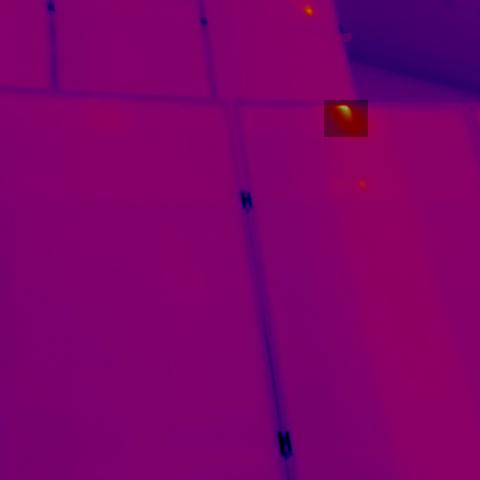fault: (324, 100, 368, 137)
